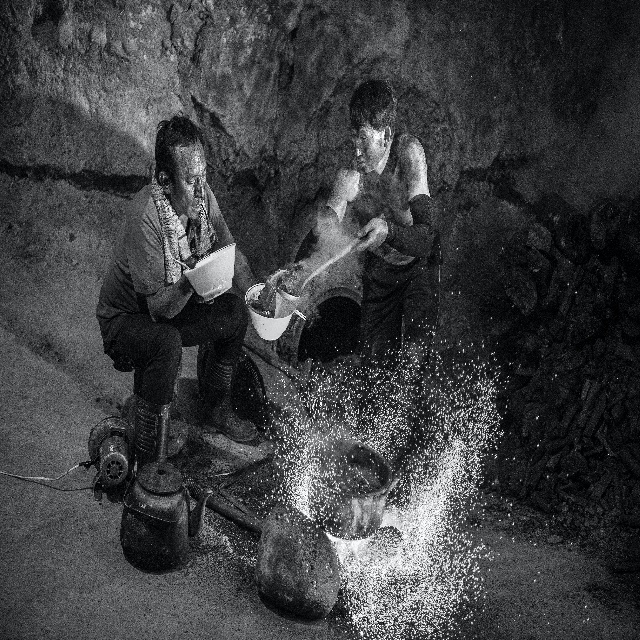Sin_guantes: (182, 257, 214, 306), (351, 218, 388, 254), (272, 335, 285, 356)
